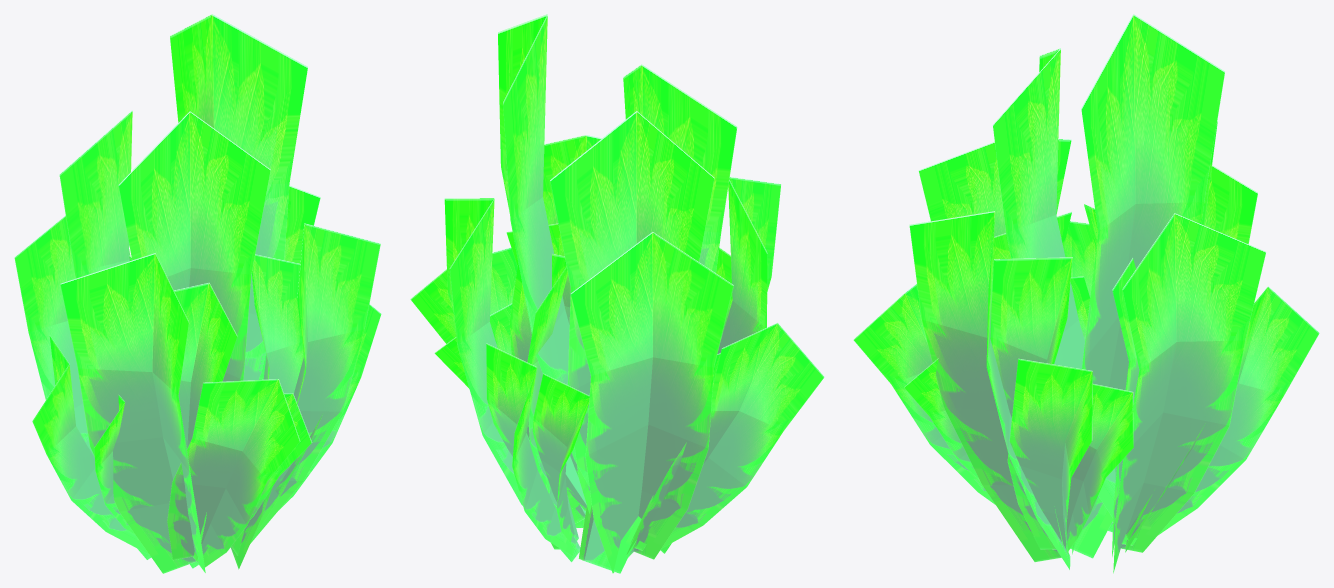
File: stylized_tropical_grass.glb
3 views of the same model, side by side, from view 1: azimuth 30°, elevation 25°; view 2: azimuth 150°, elevation 25°; view 3: azimuth 270°, elevation 25° (orthographic). The views are drawn at different scales.
Parts seen in each view (by area): view 1: Plane.001; view 2: Plane.001; view 3: Plane.001.
Boxes of the visible parts, bbox=[...] form: Plane.001: bbox=[14, 14, 381, 573]; Plane.001: bbox=[410, 14, 824, 573]; Plane.001: bbox=[853, 14, 1319, 573].
Size of the model in its own units: 1.41 by 1.89 by 1.42.
